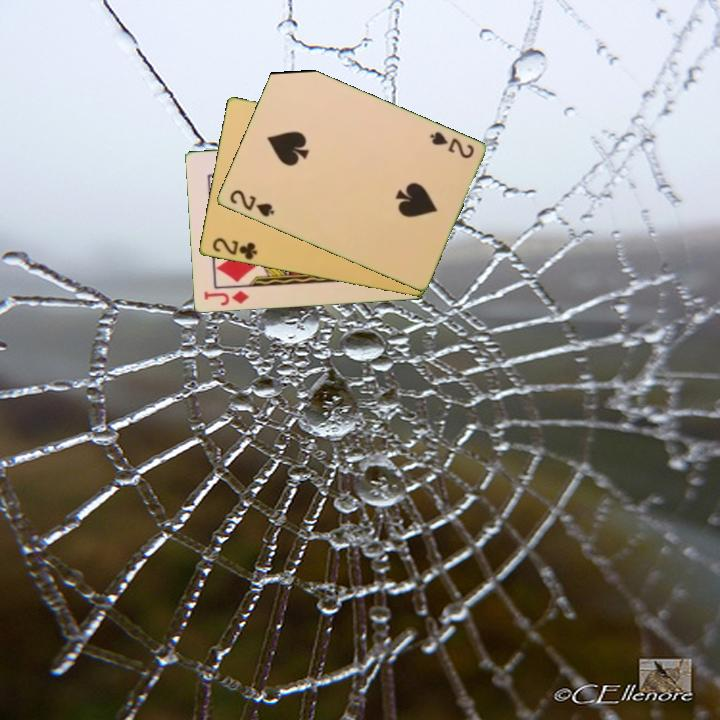2c: (208, 234, 260, 263)
2s: (226, 186, 277, 220), (426, 128, 477, 162)
Jd: (200, 287, 251, 309)
